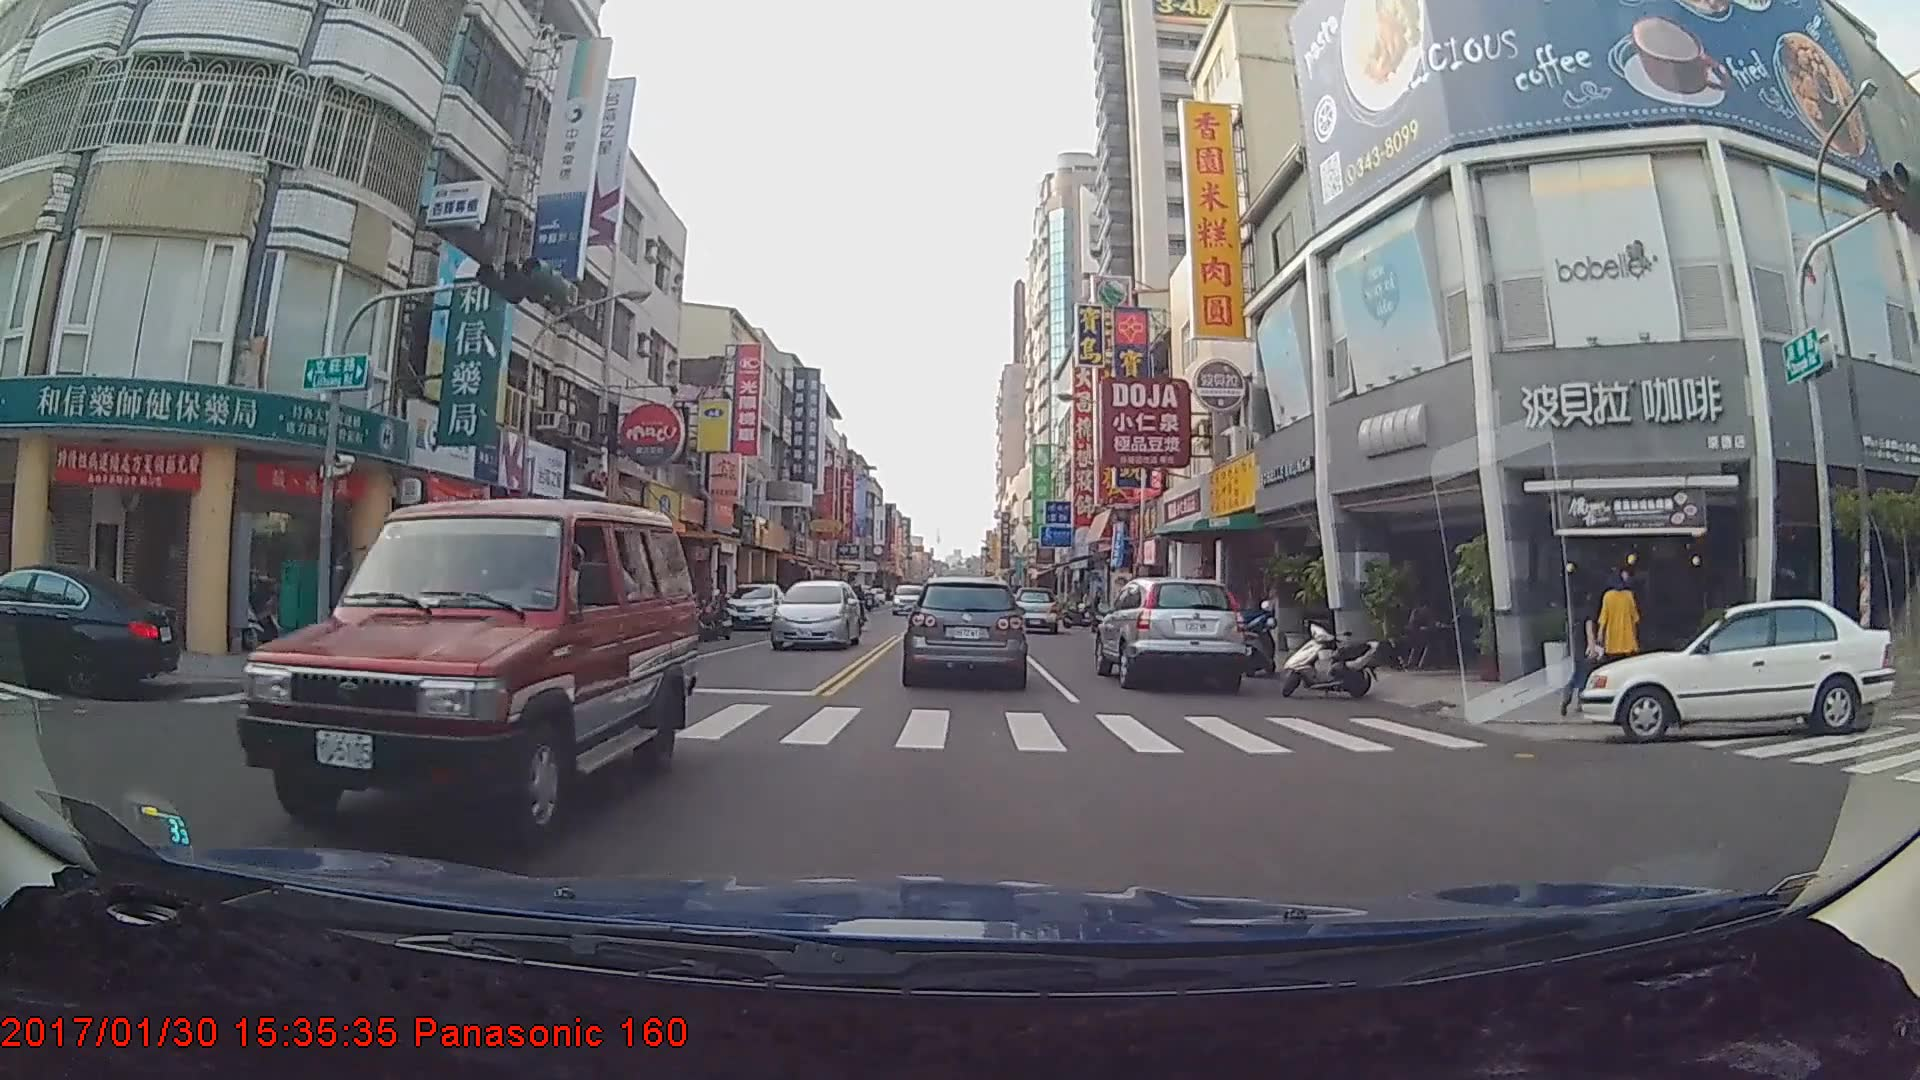pedestrian: (1557, 584, 1602, 718), (1597, 569, 1643, 687)
vehicle: (237, 495, 702, 851), (1576, 595, 1893, 747), (0, 560, 181, 697), (1095, 573, 1248, 690), (903, 576, 1025, 684), (770, 578, 861, 650), (724, 581, 784, 630), (1009, 586, 1058, 633), (890, 582, 926, 614)
